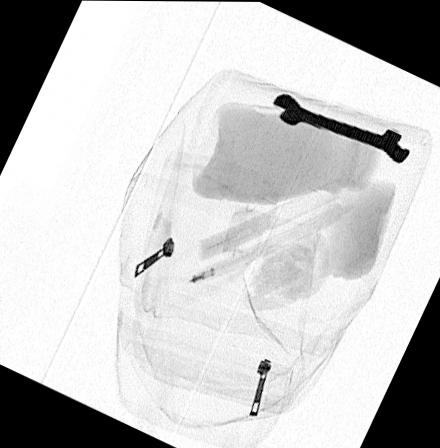Wrench: (268, 93, 411, 164)
